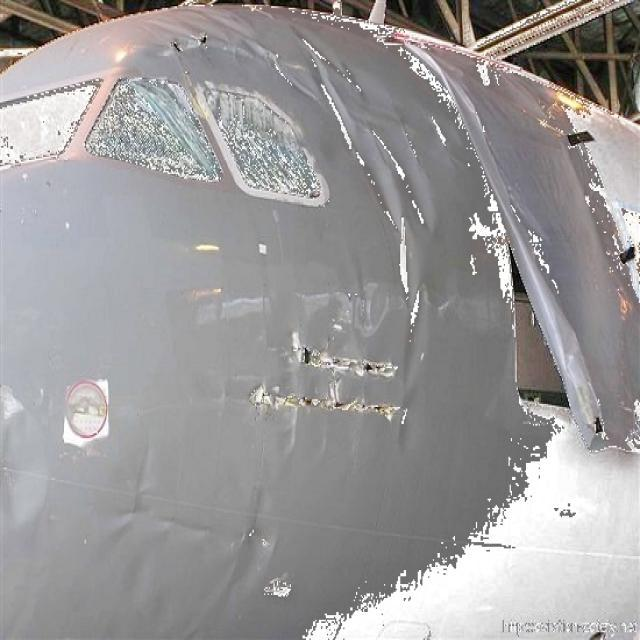crack: (241, 326, 413, 430)
